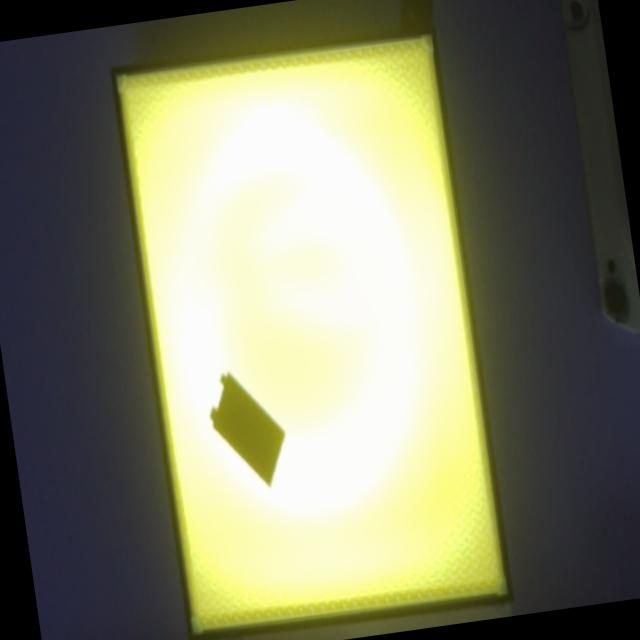bateria: (210, 373, 286, 486)
mesa: (109, 23, 517, 640)
